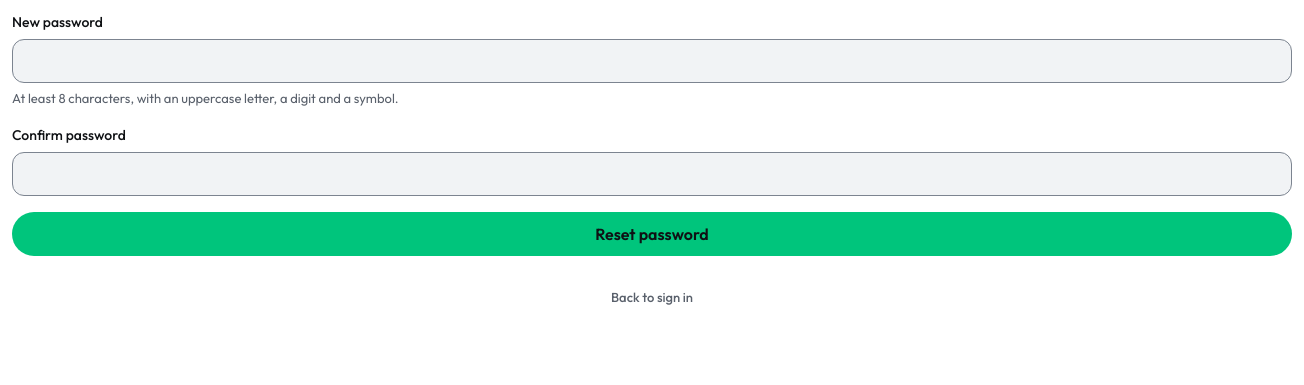
Test: ResetPasswordForm › shows the server message on failure
The width and height of the screenshot is (1304, 385).
Expected: the password field labelled "Confirm password" is shown, x1=12 y1=152 x2=1292 y2=196
Type "NewPassword123!" into the password field labelled "New password" at (652, 61), box x1=12 y1=39 x2=1292 y2=83
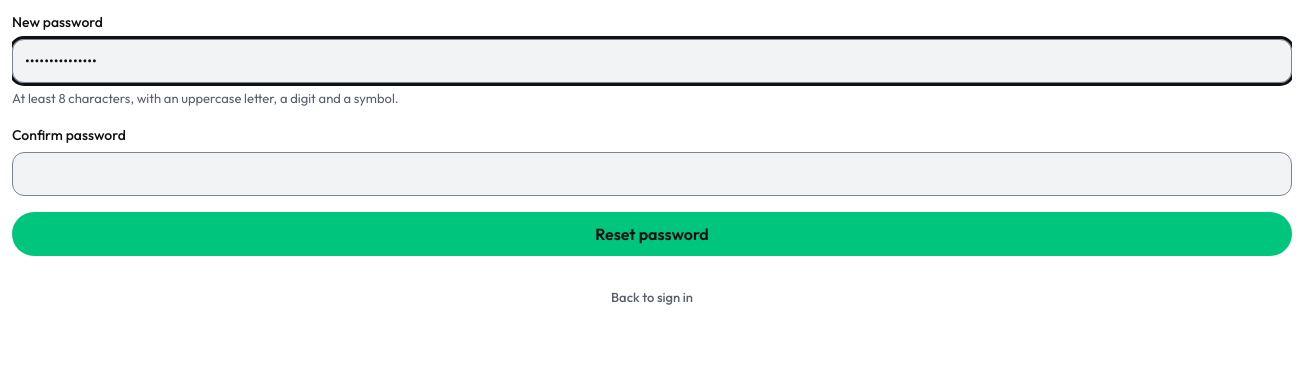
Type "NewPassword123!" into the password field labelled "Confirm password" at (652, 174), box x1=12 y1=152 x2=1292 y2=196
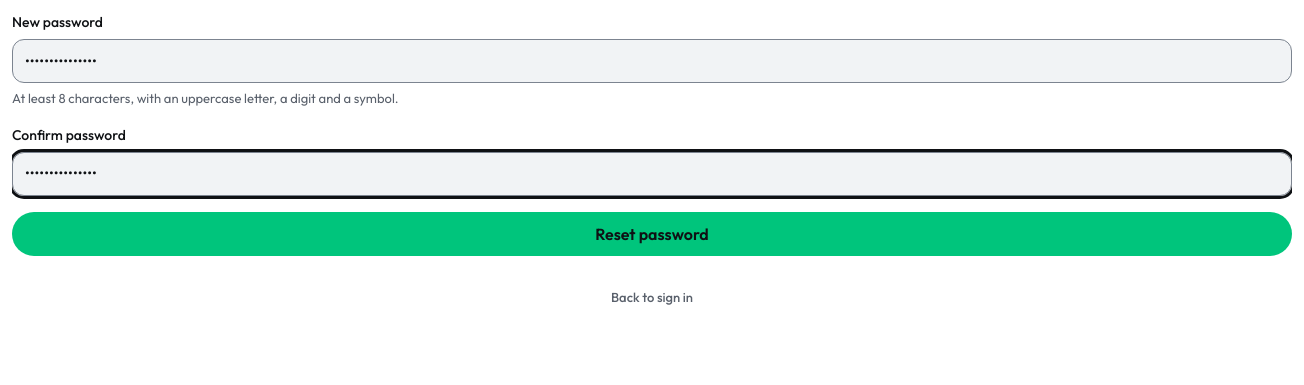
Click the button "Reset password" at (652, 234), box x1=12 y1=212 x2=1292 y2=256
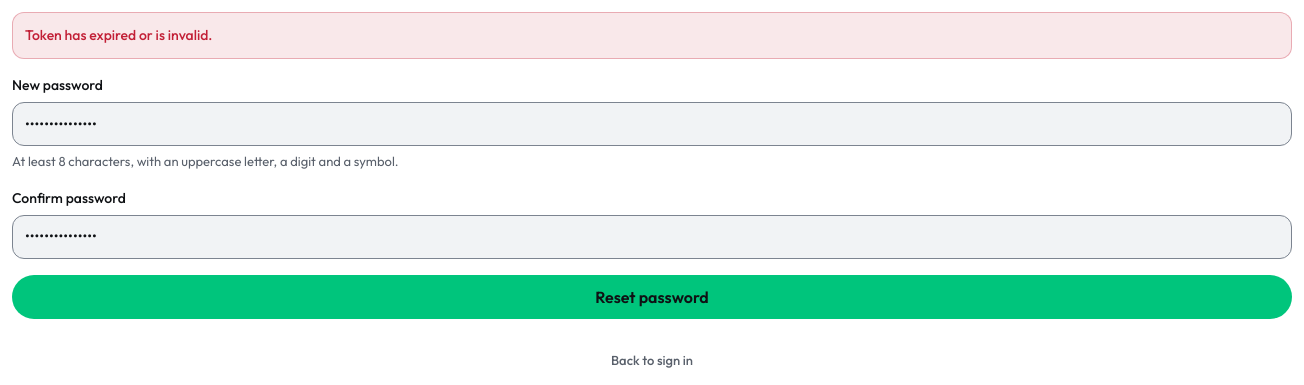
Expected: the message reads "Token has expired or is invalid.", x1=25 y1=26 x2=212 y2=44
